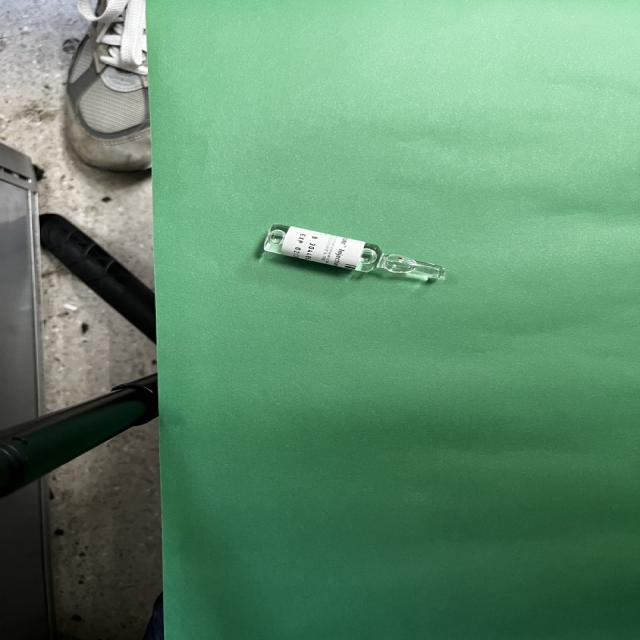Ampoules: (263, 224, 445, 279)
